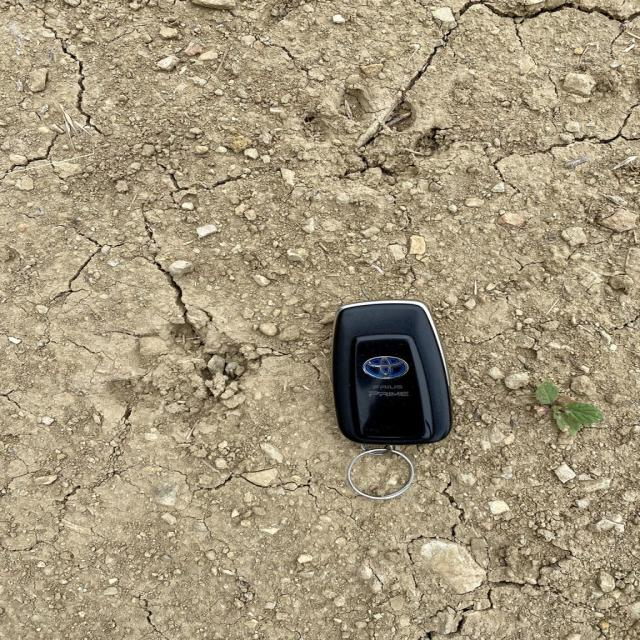felid: (112, 319, 248, 431), (307, 90, 438, 186)
